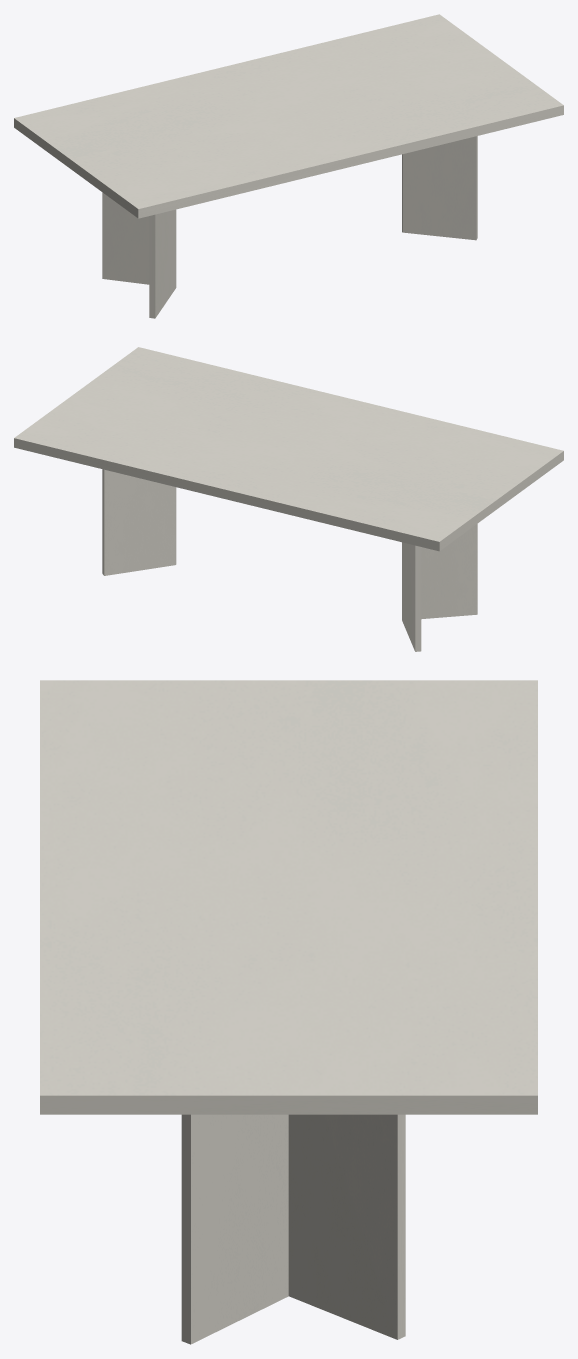
File: pale_recta_standard_valleyv.glb
The picture shows the model from 3 angles, top to bottom: view 1: azimuth 30°, elevation 25°; view 2: azimuth 150°, elevation 25°; view 3: azimuth 270°, elevation 25°; orthographic projection. The views are drawn at different scales.
Visible parts, largest first — view 1: standard_recta, valleyv; view 2: standard_recta, valleyv; view 3: standard_recta, valleyv.
Boxes of the visible parts, box(x1,y1,x2,y2) form: standard_recta: box(14, 14, 563, 218); valleyv: box(102, 136, 477, 318); standard_recta: box(14, 347, 563, 551); valleyv: box(102, 469, 477, 651); standard_recta: box(40, 680, 537, 1114); valleyv: box(181, 1114, 405, 1344).
Size of the model in its own units: 7.5 by 2.5 by 3.8.
Materials: 1 (1 with a texture image).
